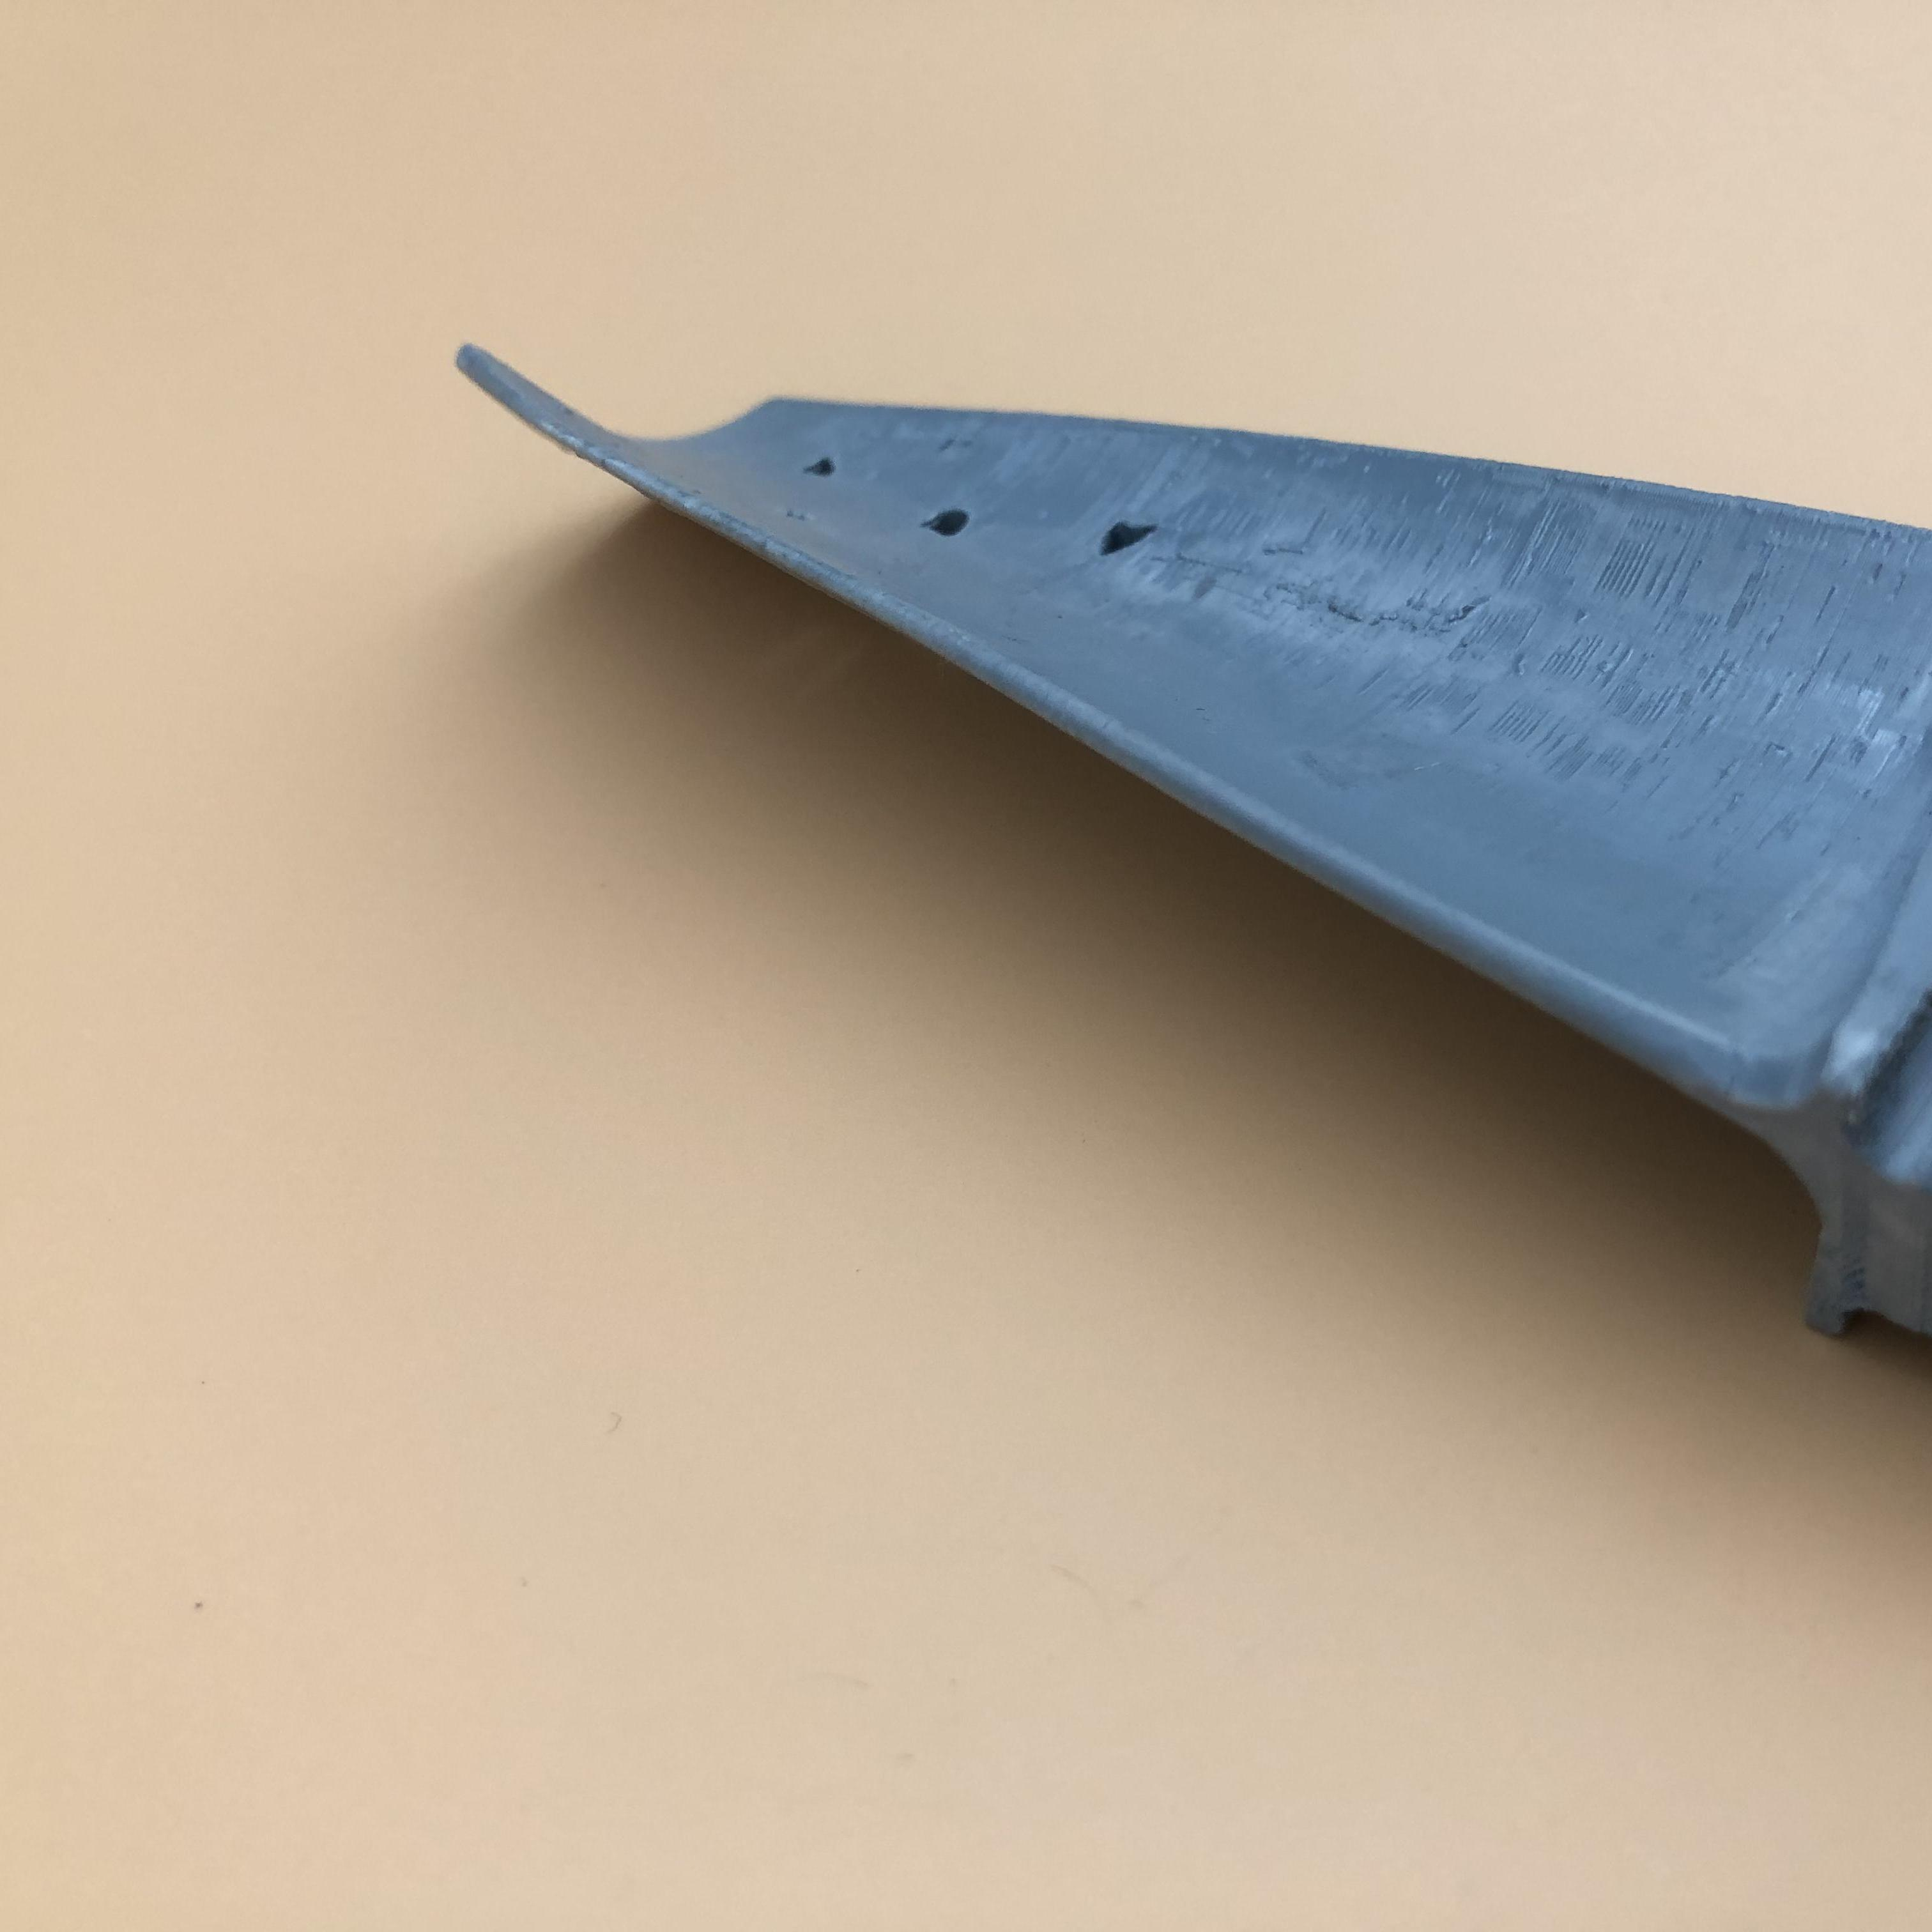breakdown: (805, 446, 1171, 561)
